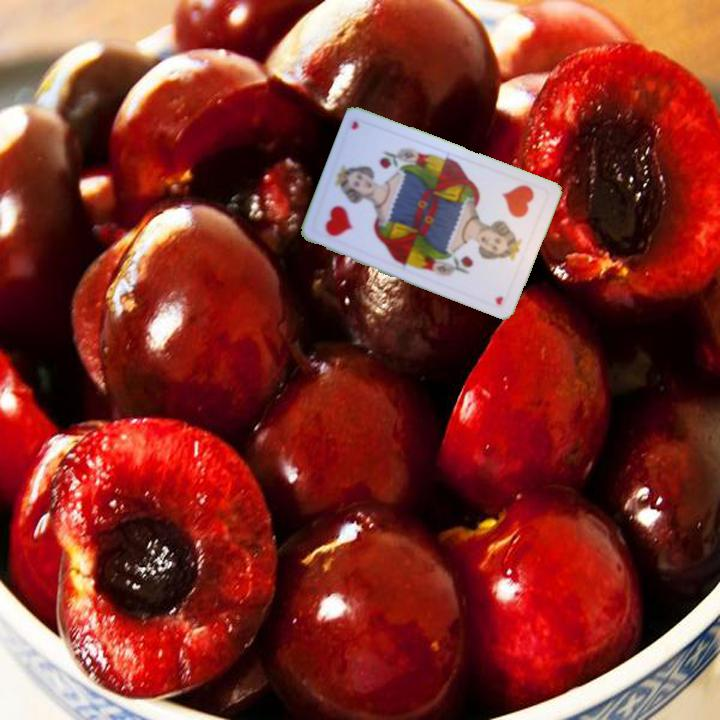h_q.png: (310, 172, 386, 254), (475, 171, 551, 253)
